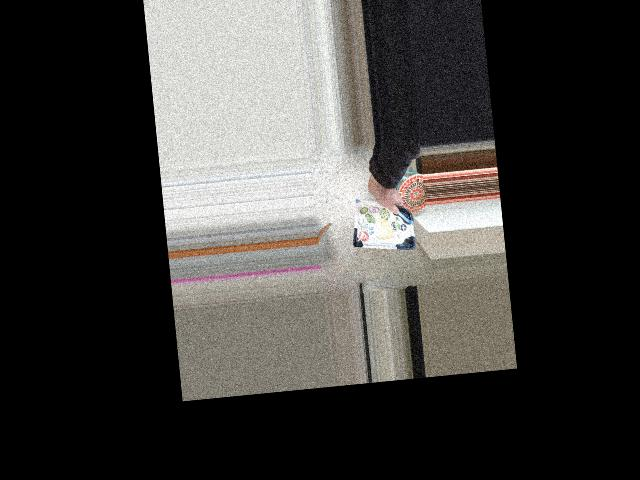cheese: (349, 186, 403, 239)
